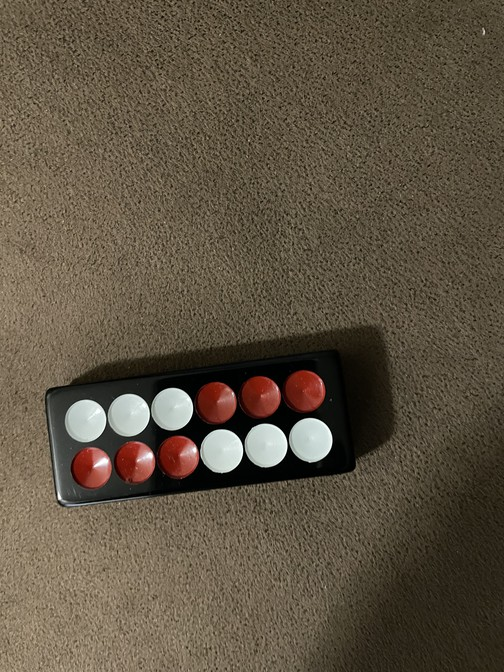heaven: (43, 351, 357, 507)
